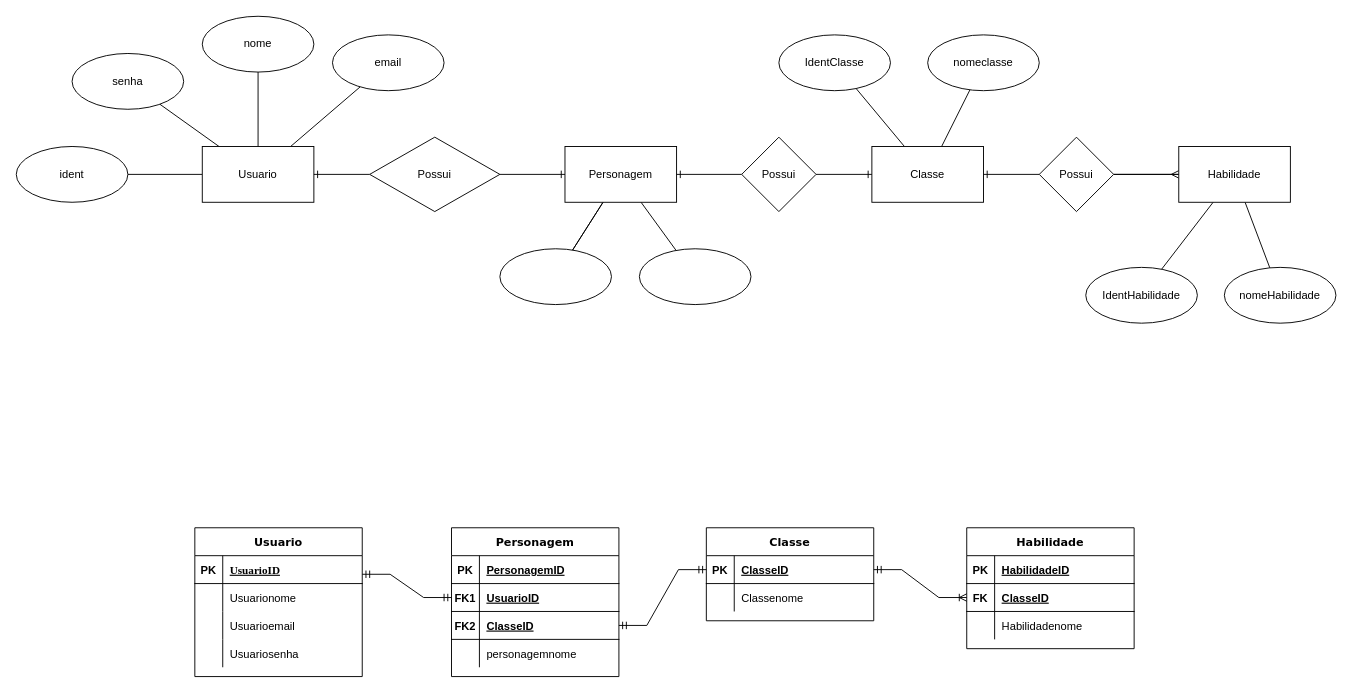
Some shapes in this 1352 by 693 pixel diagram are drawn without their labels. The centre of each missing label's shape, as x and y in pixels:
identPersonagem: pixel 694 276
nomePesonagem: pixel 555 276
